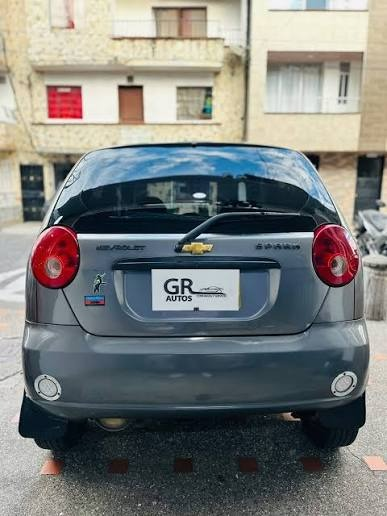car: (18, 132, 371, 448), (355, 200, 387, 255)
